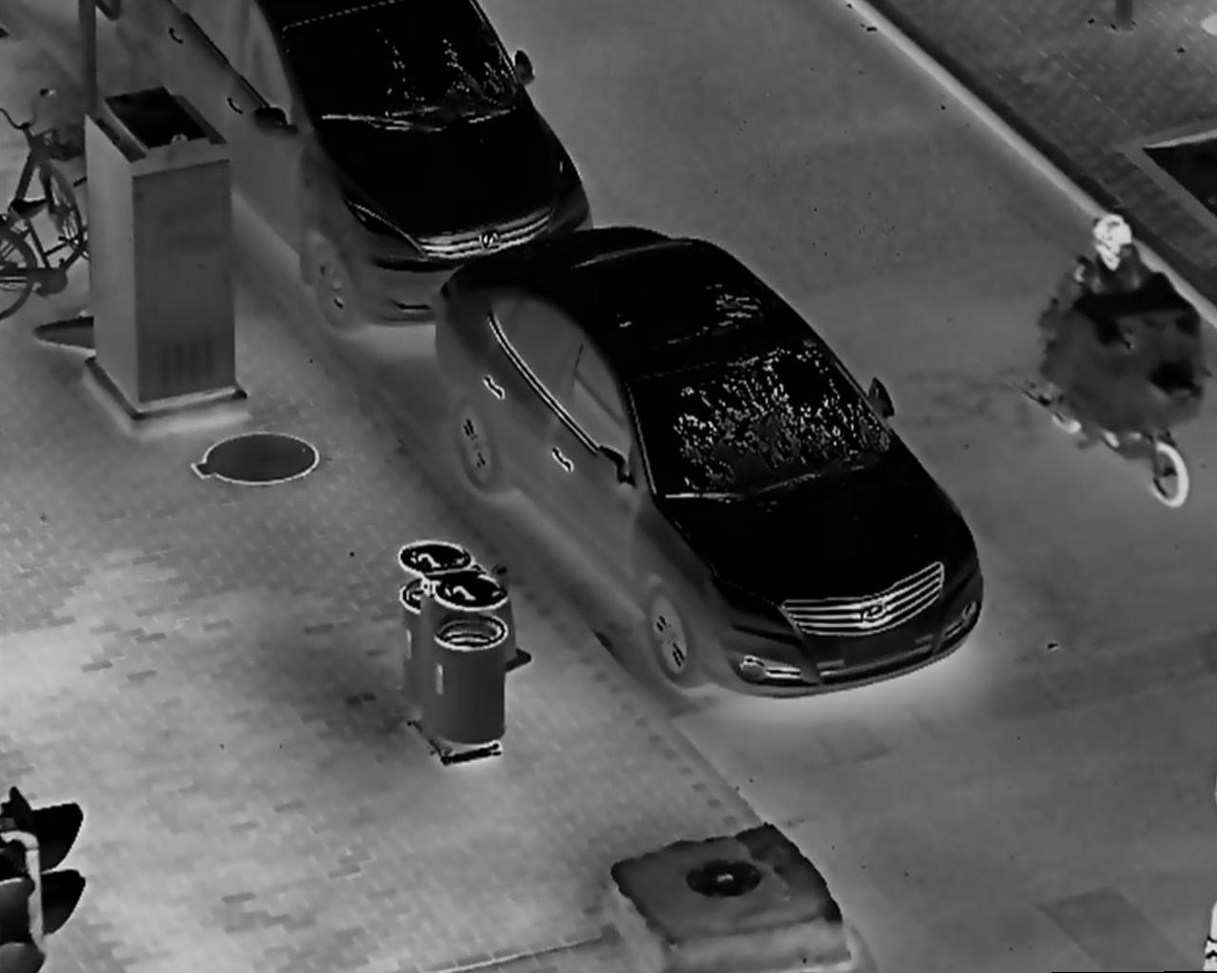person: (1053, 215, 1185, 426)
